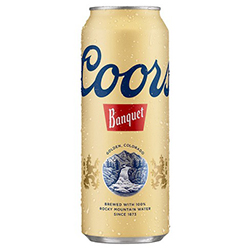beer can: (78, 5, 170, 245)
